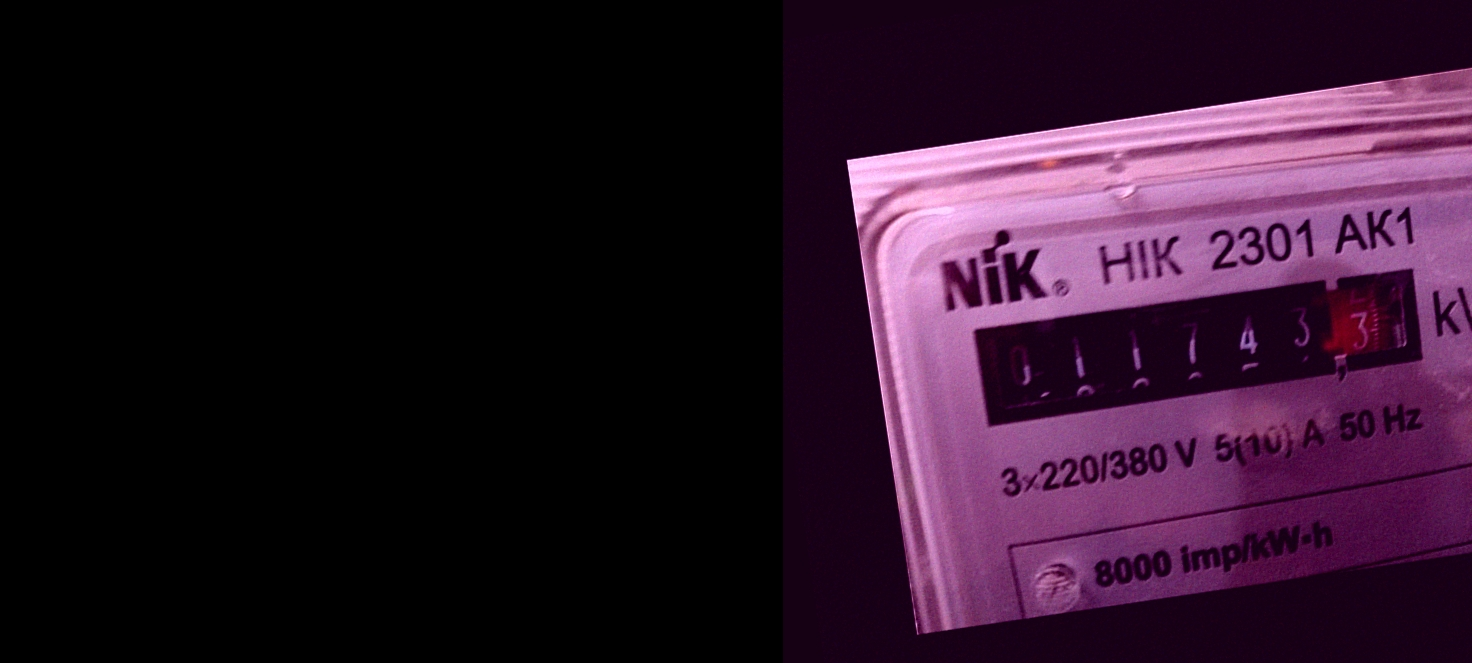0: (1003, 339, 1038, 390)
1: (1122, 324, 1149, 374), (1067, 332, 1091, 382)
3: (1284, 301, 1319, 351), (1345, 306, 1376, 353)
4: (1230, 307, 1265, 359)
7: (1177, 317, 1208, 368)
screen: (957, 253, 1435, 438)
